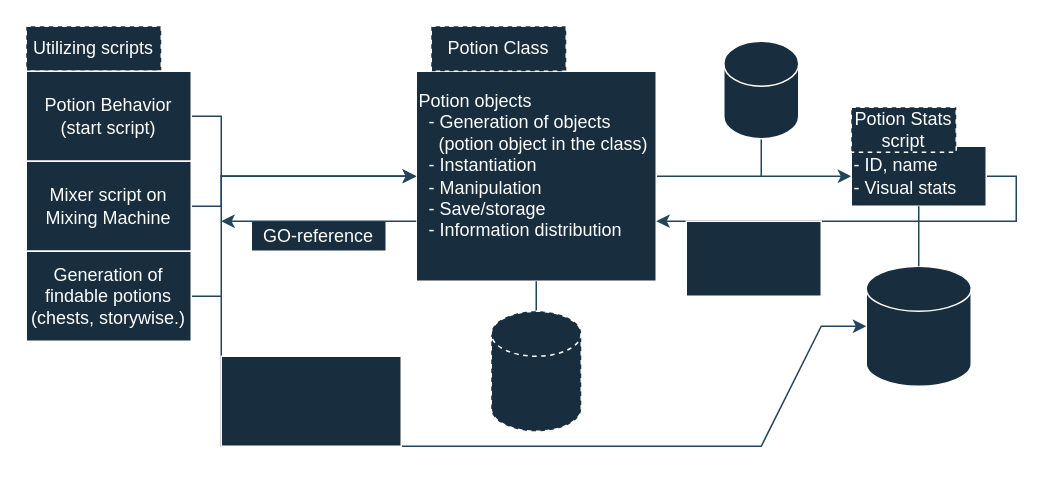
Image size: 1055x485. Some labels were removed from this diagram. Each missing label, with the box of its shape:
Class Potion Object: (490, 310, 581, 431)
GO-Inventar /position: (220, 355, 401, 446)
ID, or via inspector defined Info: (685, 220, 821, 296)
Mono- Behaviour Object: (865, 265, 971, 386)
Potion Prefab: (722, 40, 799, 139)
